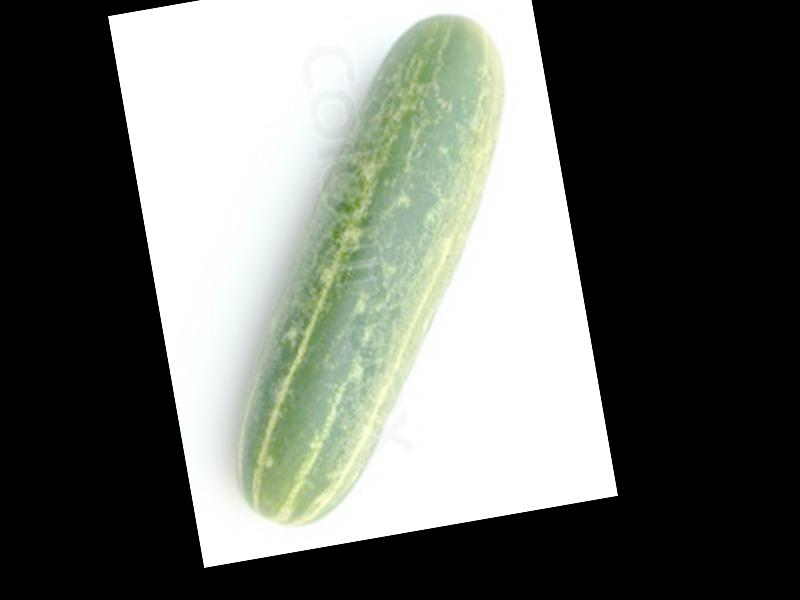Cucumber: (166, 6, 577, 537)
